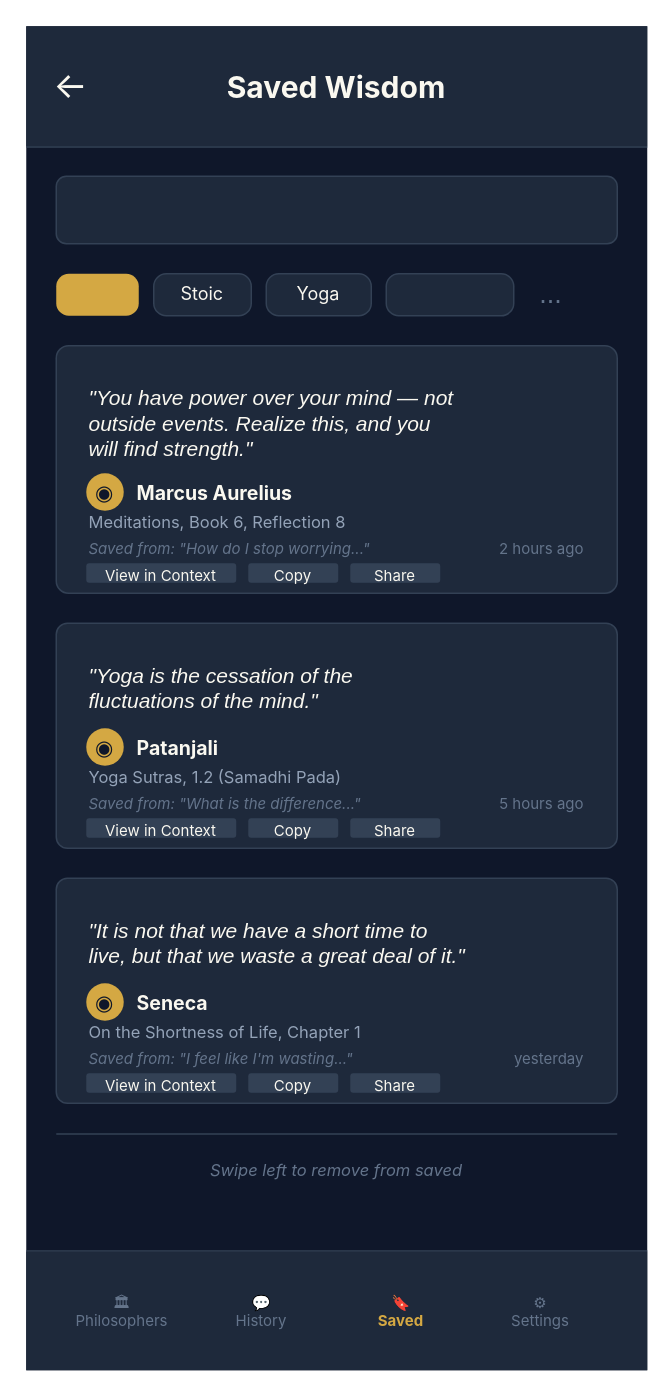
Some shapes in this 672 by 1395 pixel diagram are drawn without their labels. The shapes that lost their labels are listed below. From the top down, each one's box as (x1, y1, x2, y2) in pixels, then its label:
(55, 175, 617, 244): 🔍 Search saved passages...
(56, 273, 138, 315): All
(385, 272, 514, 316): Vedanta
